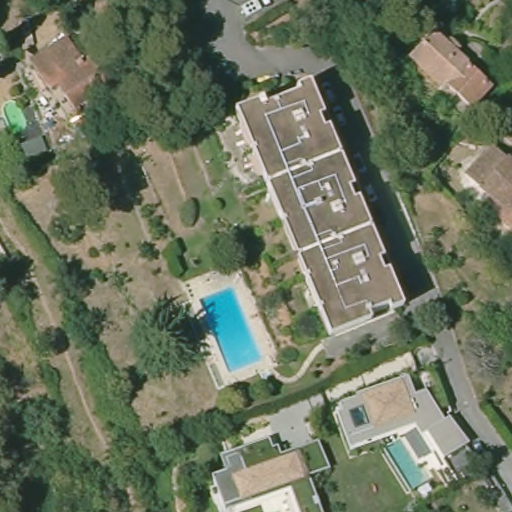pool: (199, 282, 267, 375), (384, 431, 431, 493), (2, 94, 37, 136)
